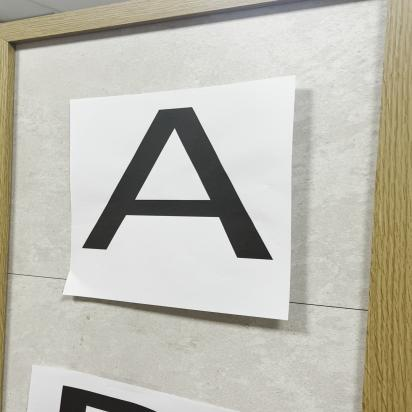seat: (81, 98, 289, 270)
